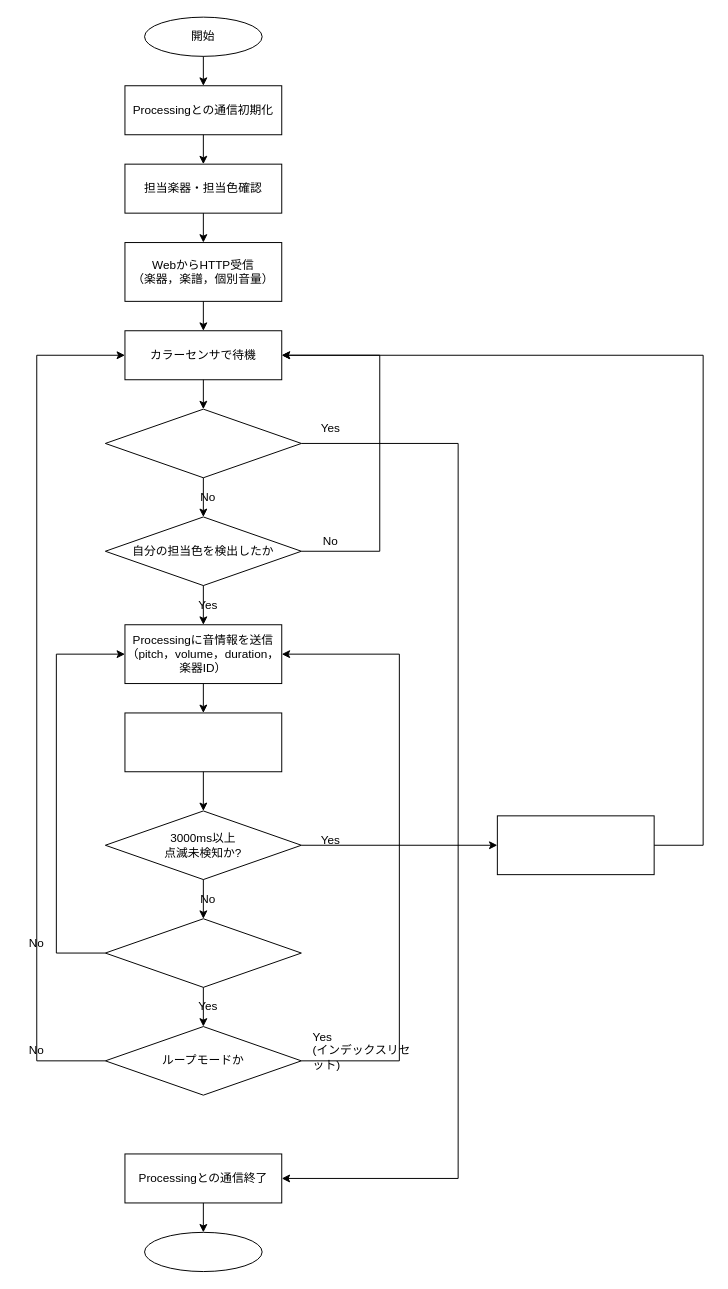
Image size: 728x1289. Some labels were removed from this diagram. The centre of each missing label's shape, as x and y in pixels:
"停止" goes at [203,1251].
"停止信号を受信したか" goes at [202,443].
"楽譜を最後まで演奏したか" goes at [202,952].
"楽譜インデックスを進める ・LEDマトリクスに歌詞表示" goes at [203,742].
"演奏状態をリセット （インデックス・フラグ初期化）" goes at [575,845].
